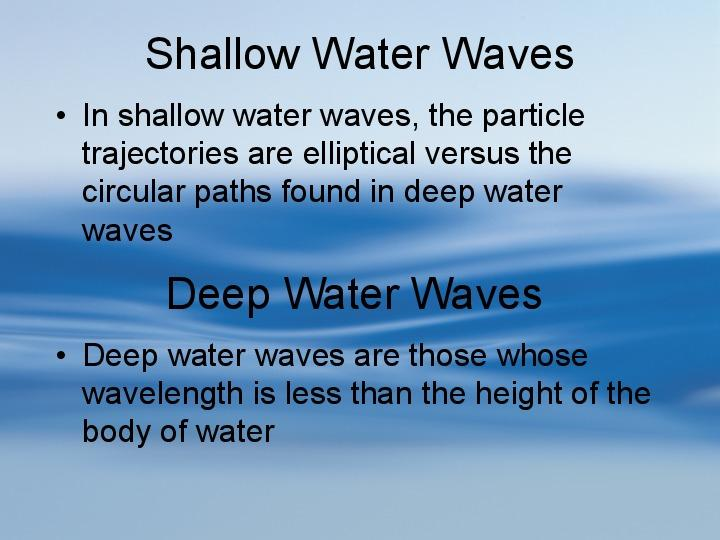paragraph: (33, 332, 692, 476), (50, 94, 611, 251)
title: (140, 26, 586, 89), (159, 261, 555, 327)
